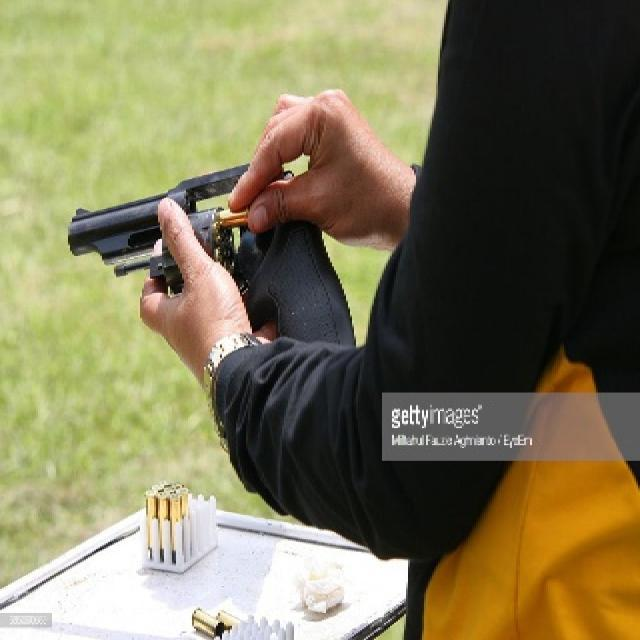weapon: (56, 130, 360, 348)
